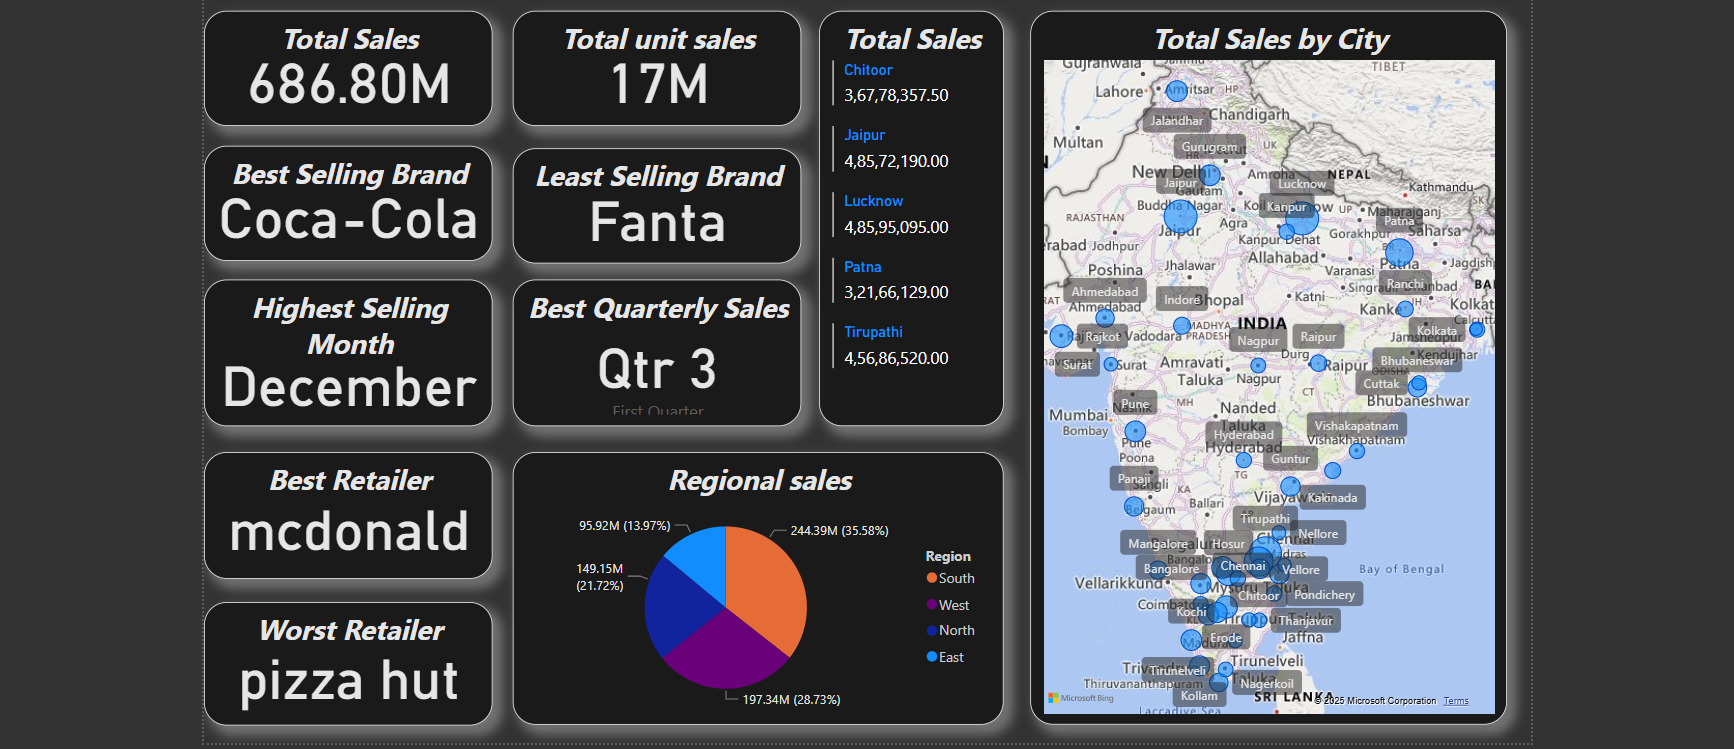

What the dashboard file says about the page in this screenshot:
{"tool":"powerbi","page":{"name":"Page 1","canvas":[1280,720],"ordinal":0},"visuals":[{"type":"card","title":"Total Sales","fields":{"Values":["Sum(bv india.totalsales)"]},"box":[0,13.7,278.6,111.1],"z":0},{"type":"card","title":"Total unit sales","fields":{"Values":["Sum(bv india.Units Sold)"]},"box":[297.8,13.7,278.6,111.1],"z":1000},{"type":"multiRowCard","title":"Total Sales","fields":{"Values":["bv india.location","Sum(bv india.totalsales)"]},"box":[592.8,13.7,178.4,400.7],"z":2000},{"type":"card","title":"Best Selling Brand","fields":{"Values":["Min(bv india.brand)"]},"box":[0,144.1,278.6,111.1],"z":3000},{"type":"card","title":"Least Selling Brand","fields":{"Values":["Min(bv india.brand)"]},"box":[297.8,145.5,278.6,111.1],"z":4000},{"type":"card","title":"Highest Selling Month","fields":{"Values":["Min(bv india.Date.Variation.Date Hierarchy.Month)"]},"box":[0,273.1,278.6,141.3],"z":6000},{"type":"card","title":"Best Quarterly Sales","fields":{"Values":["Min(bv india.Date.Variation.Date Hierarchy.Quarter)"]},"box":[297.8,273.1,278.6,141.3],"z":7000},{"type":"pieChart","title":"Regional sales","fields":{"Category":["bv india.Region"],"Y":["Sum(bv india.totalsales)"]},"box":[297.8,439.1,473.4,263.5],"z":8000},{"type":"card","title":"Best Retailer","fields":{"Values":["Min(bv india.retailer)"]},"box":[0,439.1,278.6,122.1],"z":8001},{"type":"card","title":"Worst Retailer","fields":{"Values":["Min(bv india.retailer)"]},"box":[0,583.2,278.6,119.4],"z":8002},{"type":"map","title":"Total Sales by City","fields":{"Category":["bv india.location"],"Size":["Sum(bv india.totalsales)"]},"box":[797.3,13.7,459.7,688.9],"z":8003}]}

Visuals, with their boxes on the page's 1280x720 design canvas (x1, y1, x2, y2). These are canvas units, not pixel positions in the 1734x749 screenshot, which may show the page scaled, cropped or inside an application window:
"Total Sales" card: [0, 14, 279, 125]
"Total unit sales" card: [298, 14, 576, 125]
"Total Sales" multiRowCard: [593, 14, 771, 414]
"Best Selling Brand" card: [0, 144, 279, 255]
"Least Selling Brand" card: [298, 146, 576, 257]
"Highest Selling Month" card: [0, 273, 279, 414]
"Best Quarterly Sales" card: [298, 273, 576, 414]
"Regional sales" pieChart: [298, 439, 771, 703]
"Best Retailer" card: [0, 439, 279, 561]
"Worst Retailer" card: [0, 583, 279, 703]
"Total Sales by City" map: [797, 14, 1257, 703]
